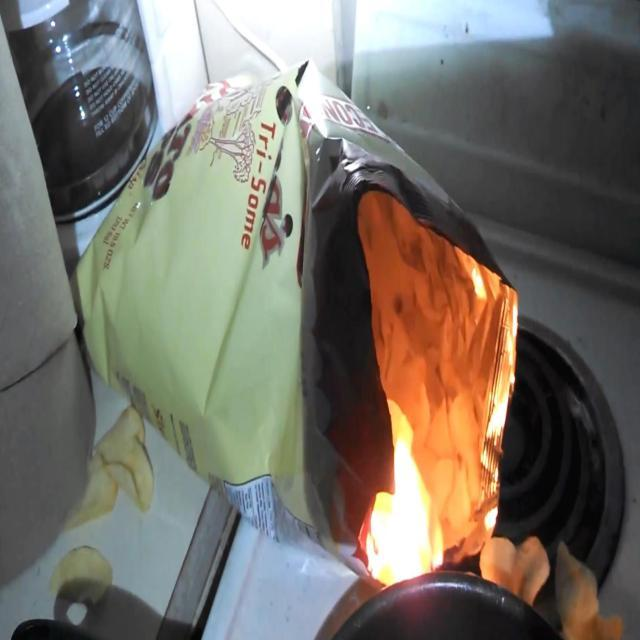Fire: (360, 400, 450, 590)
